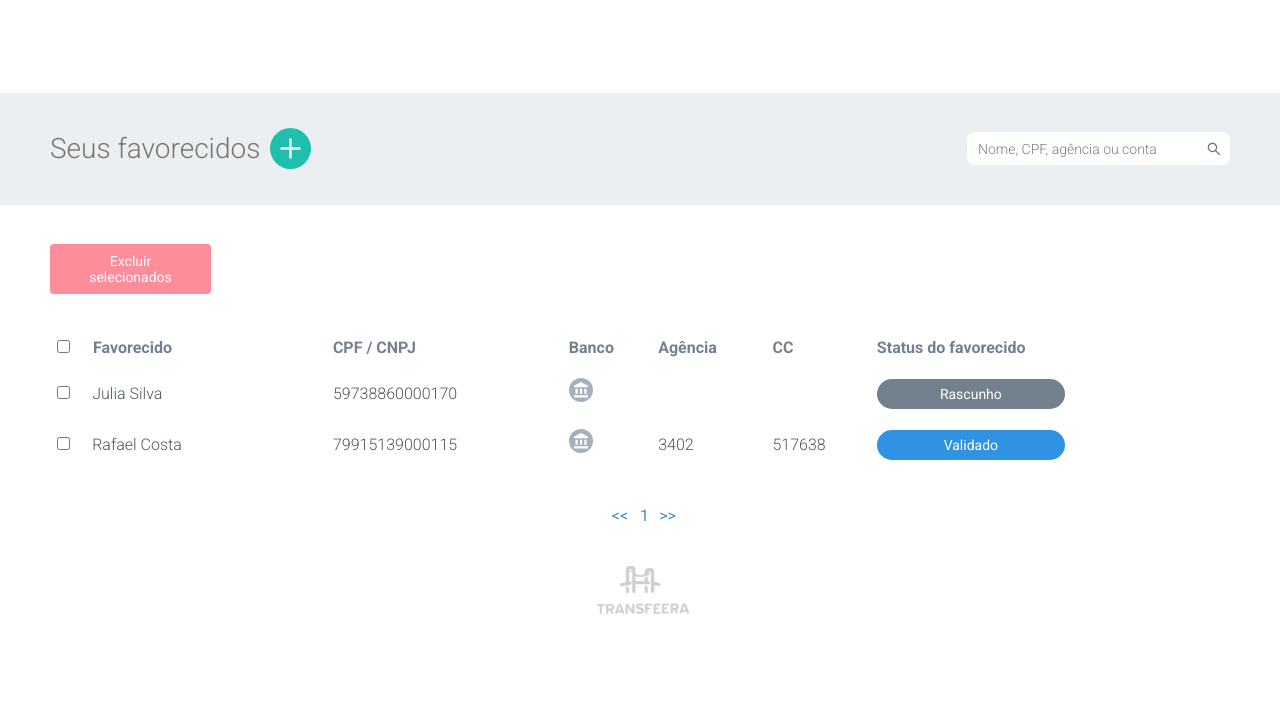
Test: ReceiversDatagrid › should show a delete dialog when delete button is click
The image size is (1280, 720).
Click the button "Rafael Costa" at [137, 445], box left=73, top=426, right=201, bottom=464
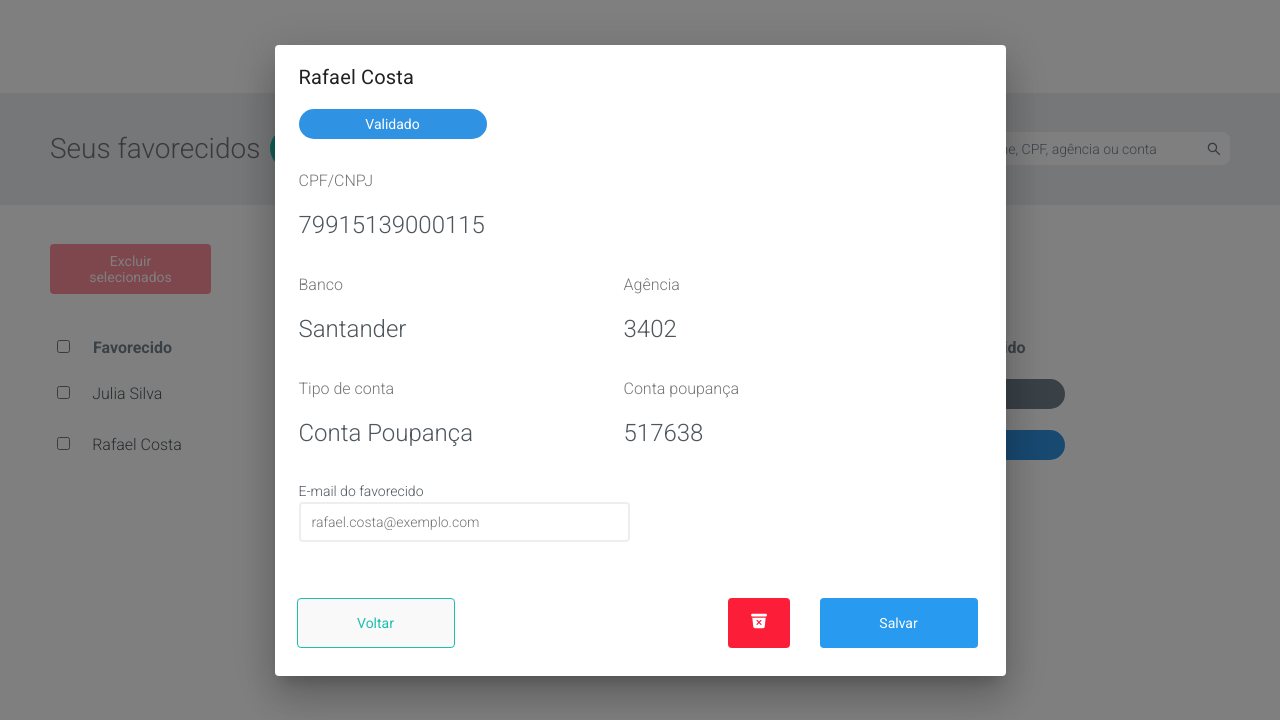
Click the button with test id "delete-button" at [758, 622], box left=728, top=598, right=790, bottom=648
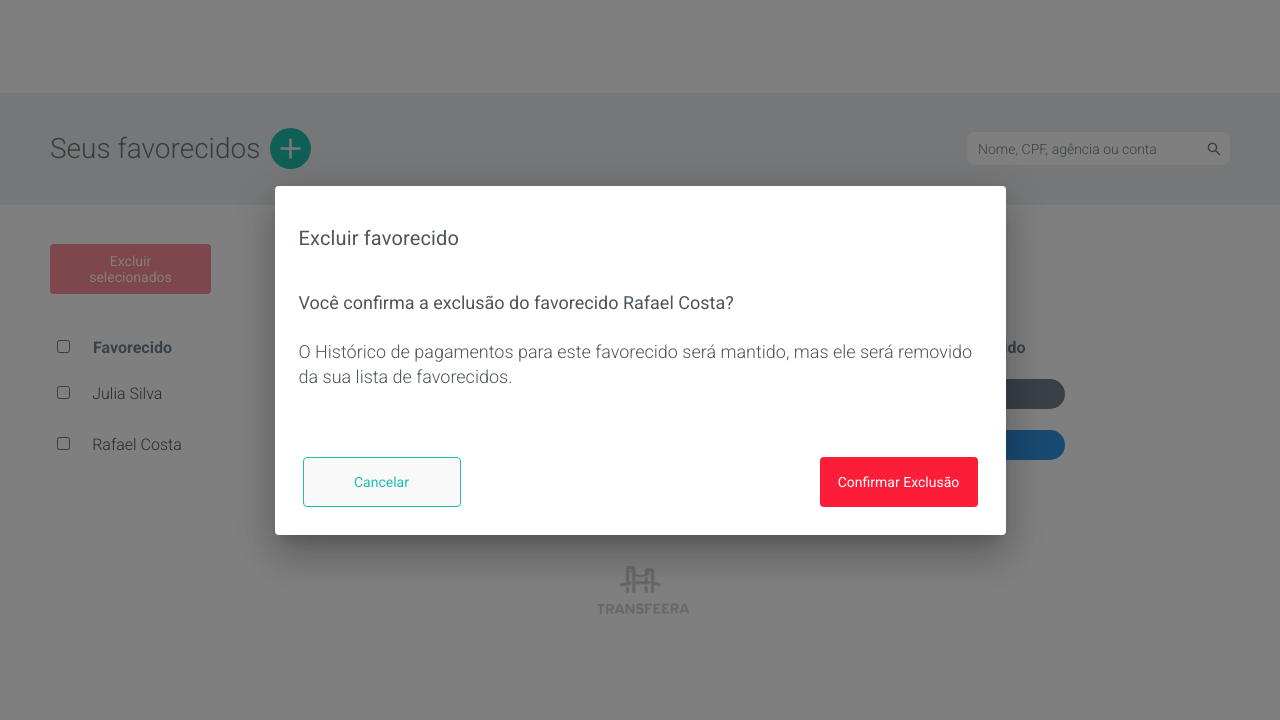
Result: the heading "Excluir favorecido" is shown at left=298, top=226, right=459, bottom=250
